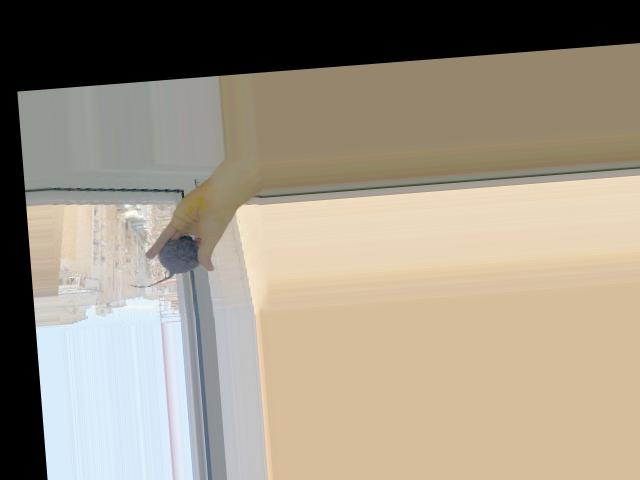beet: (124, 234, 200, 289)
